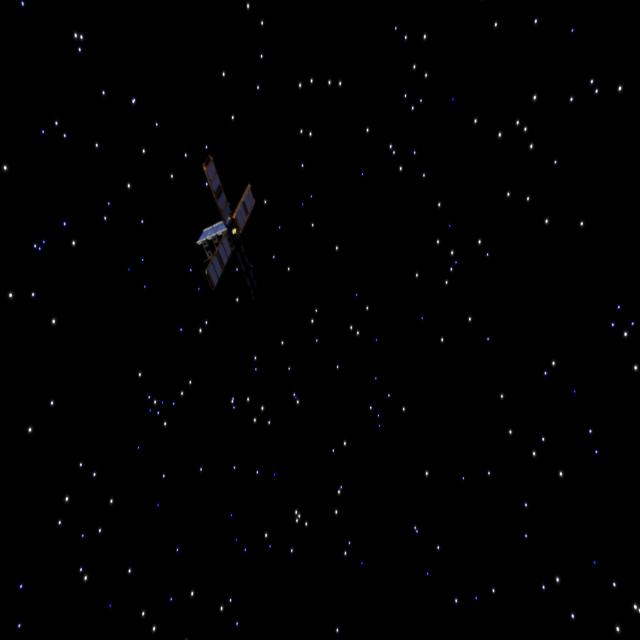satellite: (188, 152, 273, 312)
